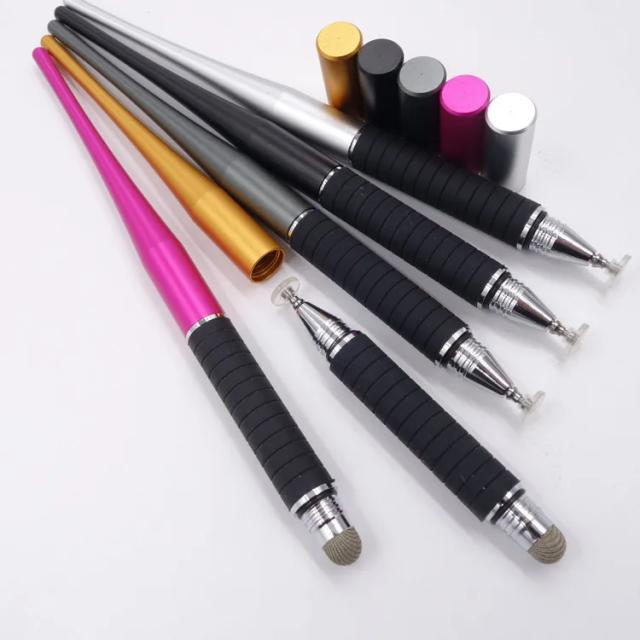pen: (29, 2, 619, 566)
